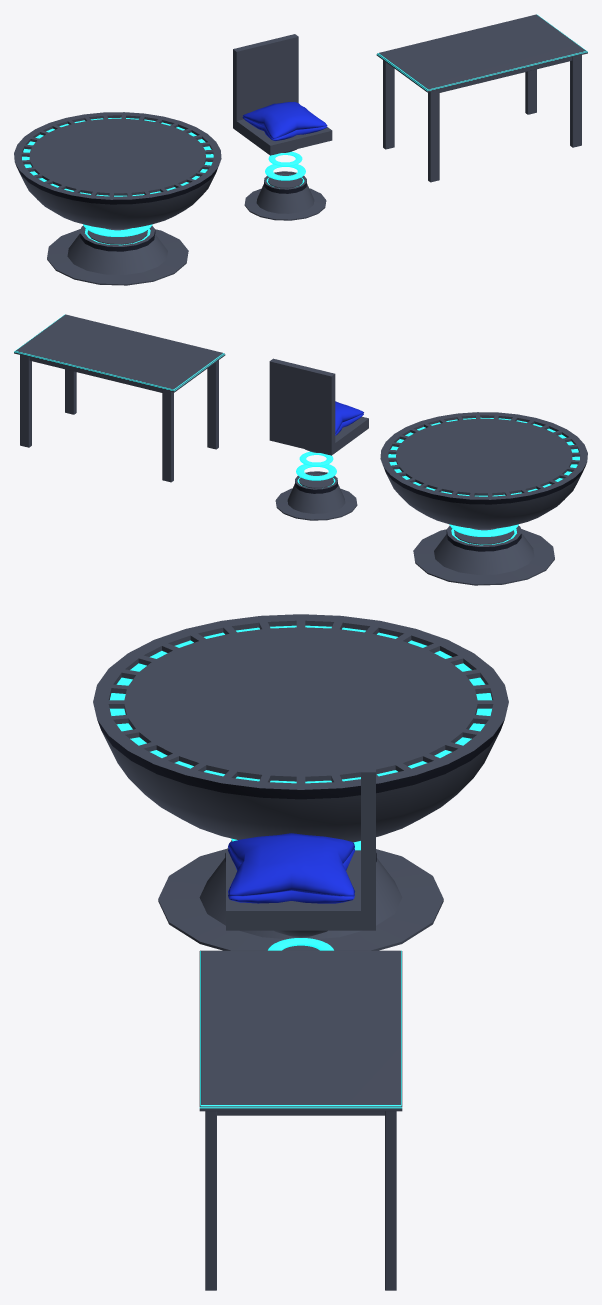
File: sillas y mesas by Karen.fbx
The picture shows the model from 3 angles, top to bottom: view 1: azimuth 30°, elevation 25°; view 2: azimuth 150°, elevation 25°; view 3: azimuth 270°, elevation 25°; orthographic projection. The views are drawn at different scales.
Visible parts, largest first — view 1: Mesa redonda, Mesa rectangular, Base, Silla, Base silla, Cojin, Luz silla, Luz; view 2: Mesa redonda, Mesa rectangular, Base, Silla, Base silla, Luz silla, Cojin, Luz; view 3: Mesa redonda, Mesa rectangular, Base, Silla, Cojin.
Boxes of the visible parts, left/top/right/bottom form: Mesa redonda: left=14, top=112, right=221, bottom=228; Mesa rectangular: left=376, top=14, right=587, bottom=182; Base: left=47, top=225, right=188, bottom=285; Silla: left=233, top=34, right=332, bottom=155; Base silla: left=244, top=171, right=326, bottom=220; Cojin: left=242, top=101, right=327, bottom=141; Luz silla: left=265, top=151, right=305, bottom=180; Luz: left=83, top=224, right=152, bottom=236; Mesa redonda: left=380, top=412, right=587, bottom=528; Mesa rectangular: left=14, top=314, right=225, bottom=482; Base: left=413, top=525, right=554, bottom=585; Silla: left=269, top=358, right=368, bottom=455; Base silla: left=275, top=471, right=357, bottom=520; Luz silla: left=296, top=451, right=336, bottom=480; Cojin: left=335, top=401, right=363, bottom=435; Luz: left=449, top=524, right=518, bottom=536; Mesa redonda: left=93, top=614, right=508, bottom=842; Mesa rectangular: left=199, top=950, right=402, bottom=1290; Base: left=158, top=840, right=443, bottom=950; Silla: left=226, top=711, right=375, bottom=937; Cojin: left=228, top=833, right=354, bottom=903.
Bounding box in the file's own units: 579 × 166 × 195.
